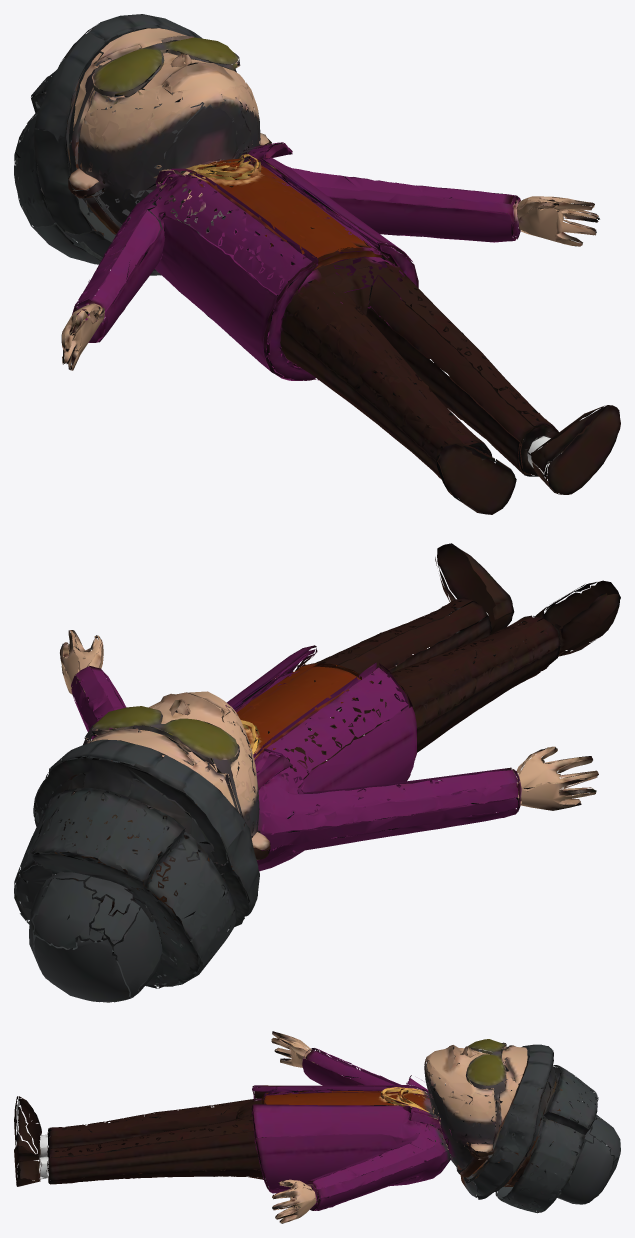
The model's file is rm-bigmorty.hq.glb.
3 renders of one model, top to bottom at view 1: azimuth 30°, elevation 25°; view 2: azimuth 150°, elevation 25°; view 3: azimuth 270°, elevation 25°, orthographic. The views are drawn at different scales.
Visible parts, largest first — view 1: low; view 2: low; view 3: low.
Boxes of the visible parts, x1,y1,x2,y2 form: low: [14, 14, 620, 514]; low: [14, 543, 620, 1002]; low: [14, 1031, 620, 1223].
Size of the model in its own units: 0.6579 by 0.2886 by 0.9969.
Materials: 1 (1 with a texture image).
